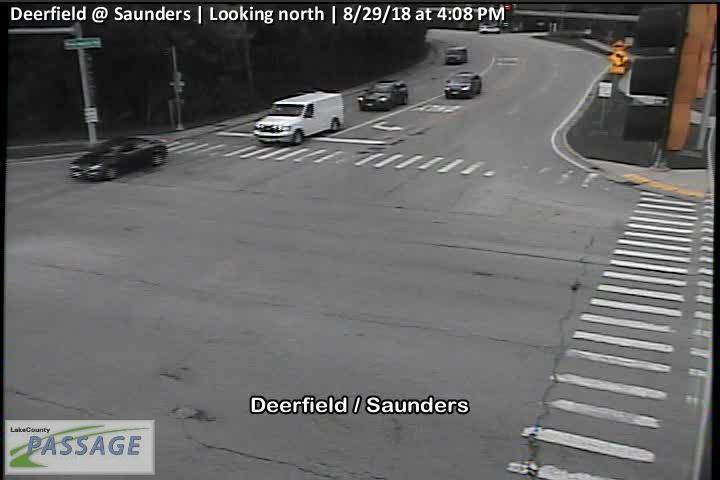SUV: (358, 80, 409, 110), (446, 72, 482, 98), (446, 45, 468, 64)
Sedan: (70, 137, 168, 180)
Truck: (254, 91, 344, 146)
